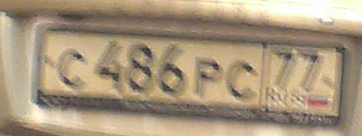character: (122, 42, 156, 93), (53, 45, 89, 89), (93, 38, 122, 92), (157, 43, 186, 96), (224, 56, 257, 101), (192, 54, 224, 100), (294, 46, 320, 93), (272, 46, 294, 91)
